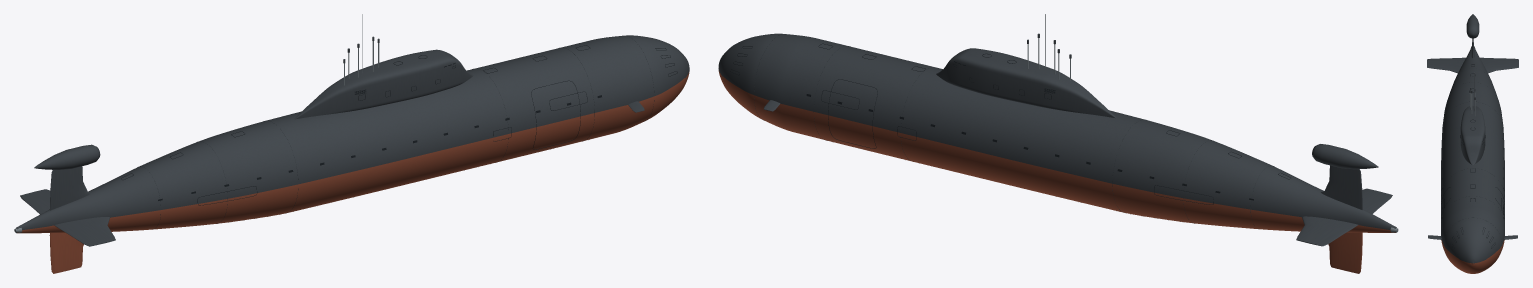
The model's file is RU_SSN_Akula_LOD2.fbx.
3 views of the same model, side by side, from view 1: azimuth 30°, elevation 25°; view 2: azimuth 150°, elevation 25°; view 3: azimuth 270°, elevation 25° (orthographic). The views are drawn at different scales.
Visible parts, largest first — view 1: RU_SSN_Akula_HULL_LOD2; view 2: RU_SSN_Akula_HULL_LOD2; view 3: RU_SSN_Akula_HULL_LOD2.
Boxes of the visible parts, box(x1,y1,x2,y2) form: RU_SSN_Akula_HULL_LOD2: box(14, 14, 689, 273); RU_SSN_Akula_HULL_LOD2: box(718, 14, 1398, 273); RU_SSN_Akula_HULL_LOD2: box(1427, 14, 1518, 273).
Size of the model in its own units: 109 by 19.6 by 28.44.
